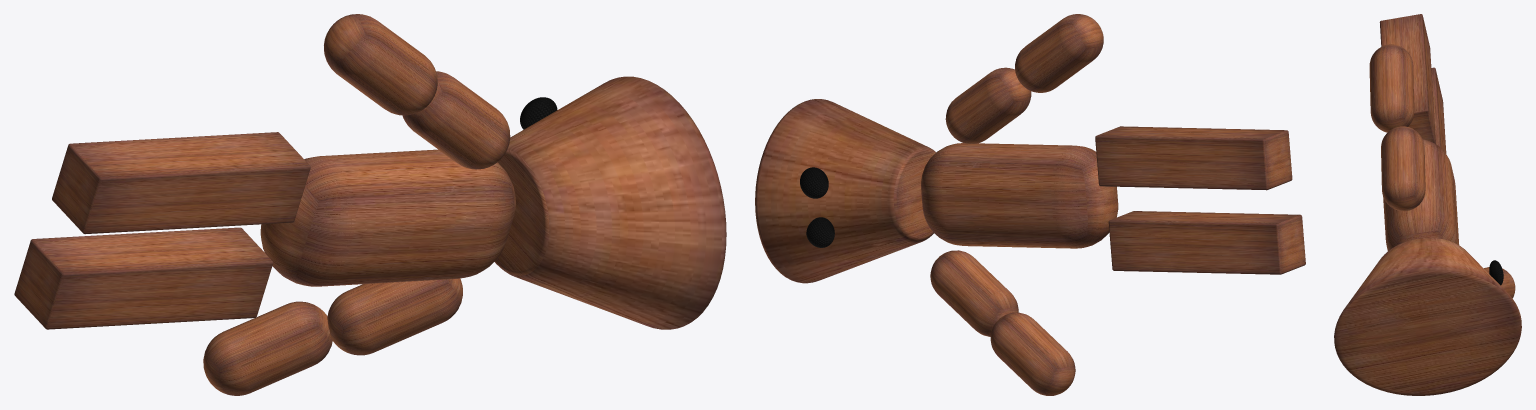
File: woody.glb
The picture shows the model from 3 angles, left to right: view 1: azimuth 30°, elevation 25°; view 2: azimuth 150°, elevation 25°; view 3: azimuth 270°, elevation 25°; orthographic projection. The views are drawn at different scales.
Parts seen in each view (by area): view 1: Cylinder, Box, Box 1, Box 2, Box 4 (×2), Box 3 (×2), Sphere 1; view 2: Cylinder, Box, Box 1, Box 2, Box 4 (×2), Box 3 (×2), Sphere 1, Sphere 2; view 3: Cylinder, Box, Box 3 (×2), Box 4, Box 2, Box 1, Sphere 1.
Boxes of the visible parts, x1,y1,x2,y2 form: Cylinder: [494, 76, 726, 329]; Box: [260, 149, 515, 286]; Box 1: [14, 227, 273, 329]; Box 2: [52, 132, 310, 234]; Box 4 (×2): [324, 14, 462, 355]; Box 3 (×2): [203, 71, 510, 395]; Sphere 1: [520, 97, 557, 129]; Cylinder: [755, 99, 935, 283]; Box: [921, 143, 1118, 248]; Box 1: [1108, 211, 1305, 274]; Box 2: [1095, 126, 1292, 190]; Box 4 (×2): [930, 14, 1103, 336]; Box 3 (×2): [945, 67, 1075, 395]; Sphere 1: [800, 167, 828, 198]; Sphere 2: [806, 217, 834, 247]; Cylinder: [1334, 237, 1521, 395]; Box: [1383, 139, 1459, 250]; Box 3 (×2): [1381, 126, 1515, 298]; Box 4: [1369, 44, 1414, 132]; Box 2: [1379, 14, 1435, 143]; Box 1: [1431, 67, 1446, 153]; Sphere 1: [1489, 260, 1503, 285].
Bounding box in the file's own units: 1.11 × 0.6937 × 0.4292.
Materials: 10 (10 with a texture image).
